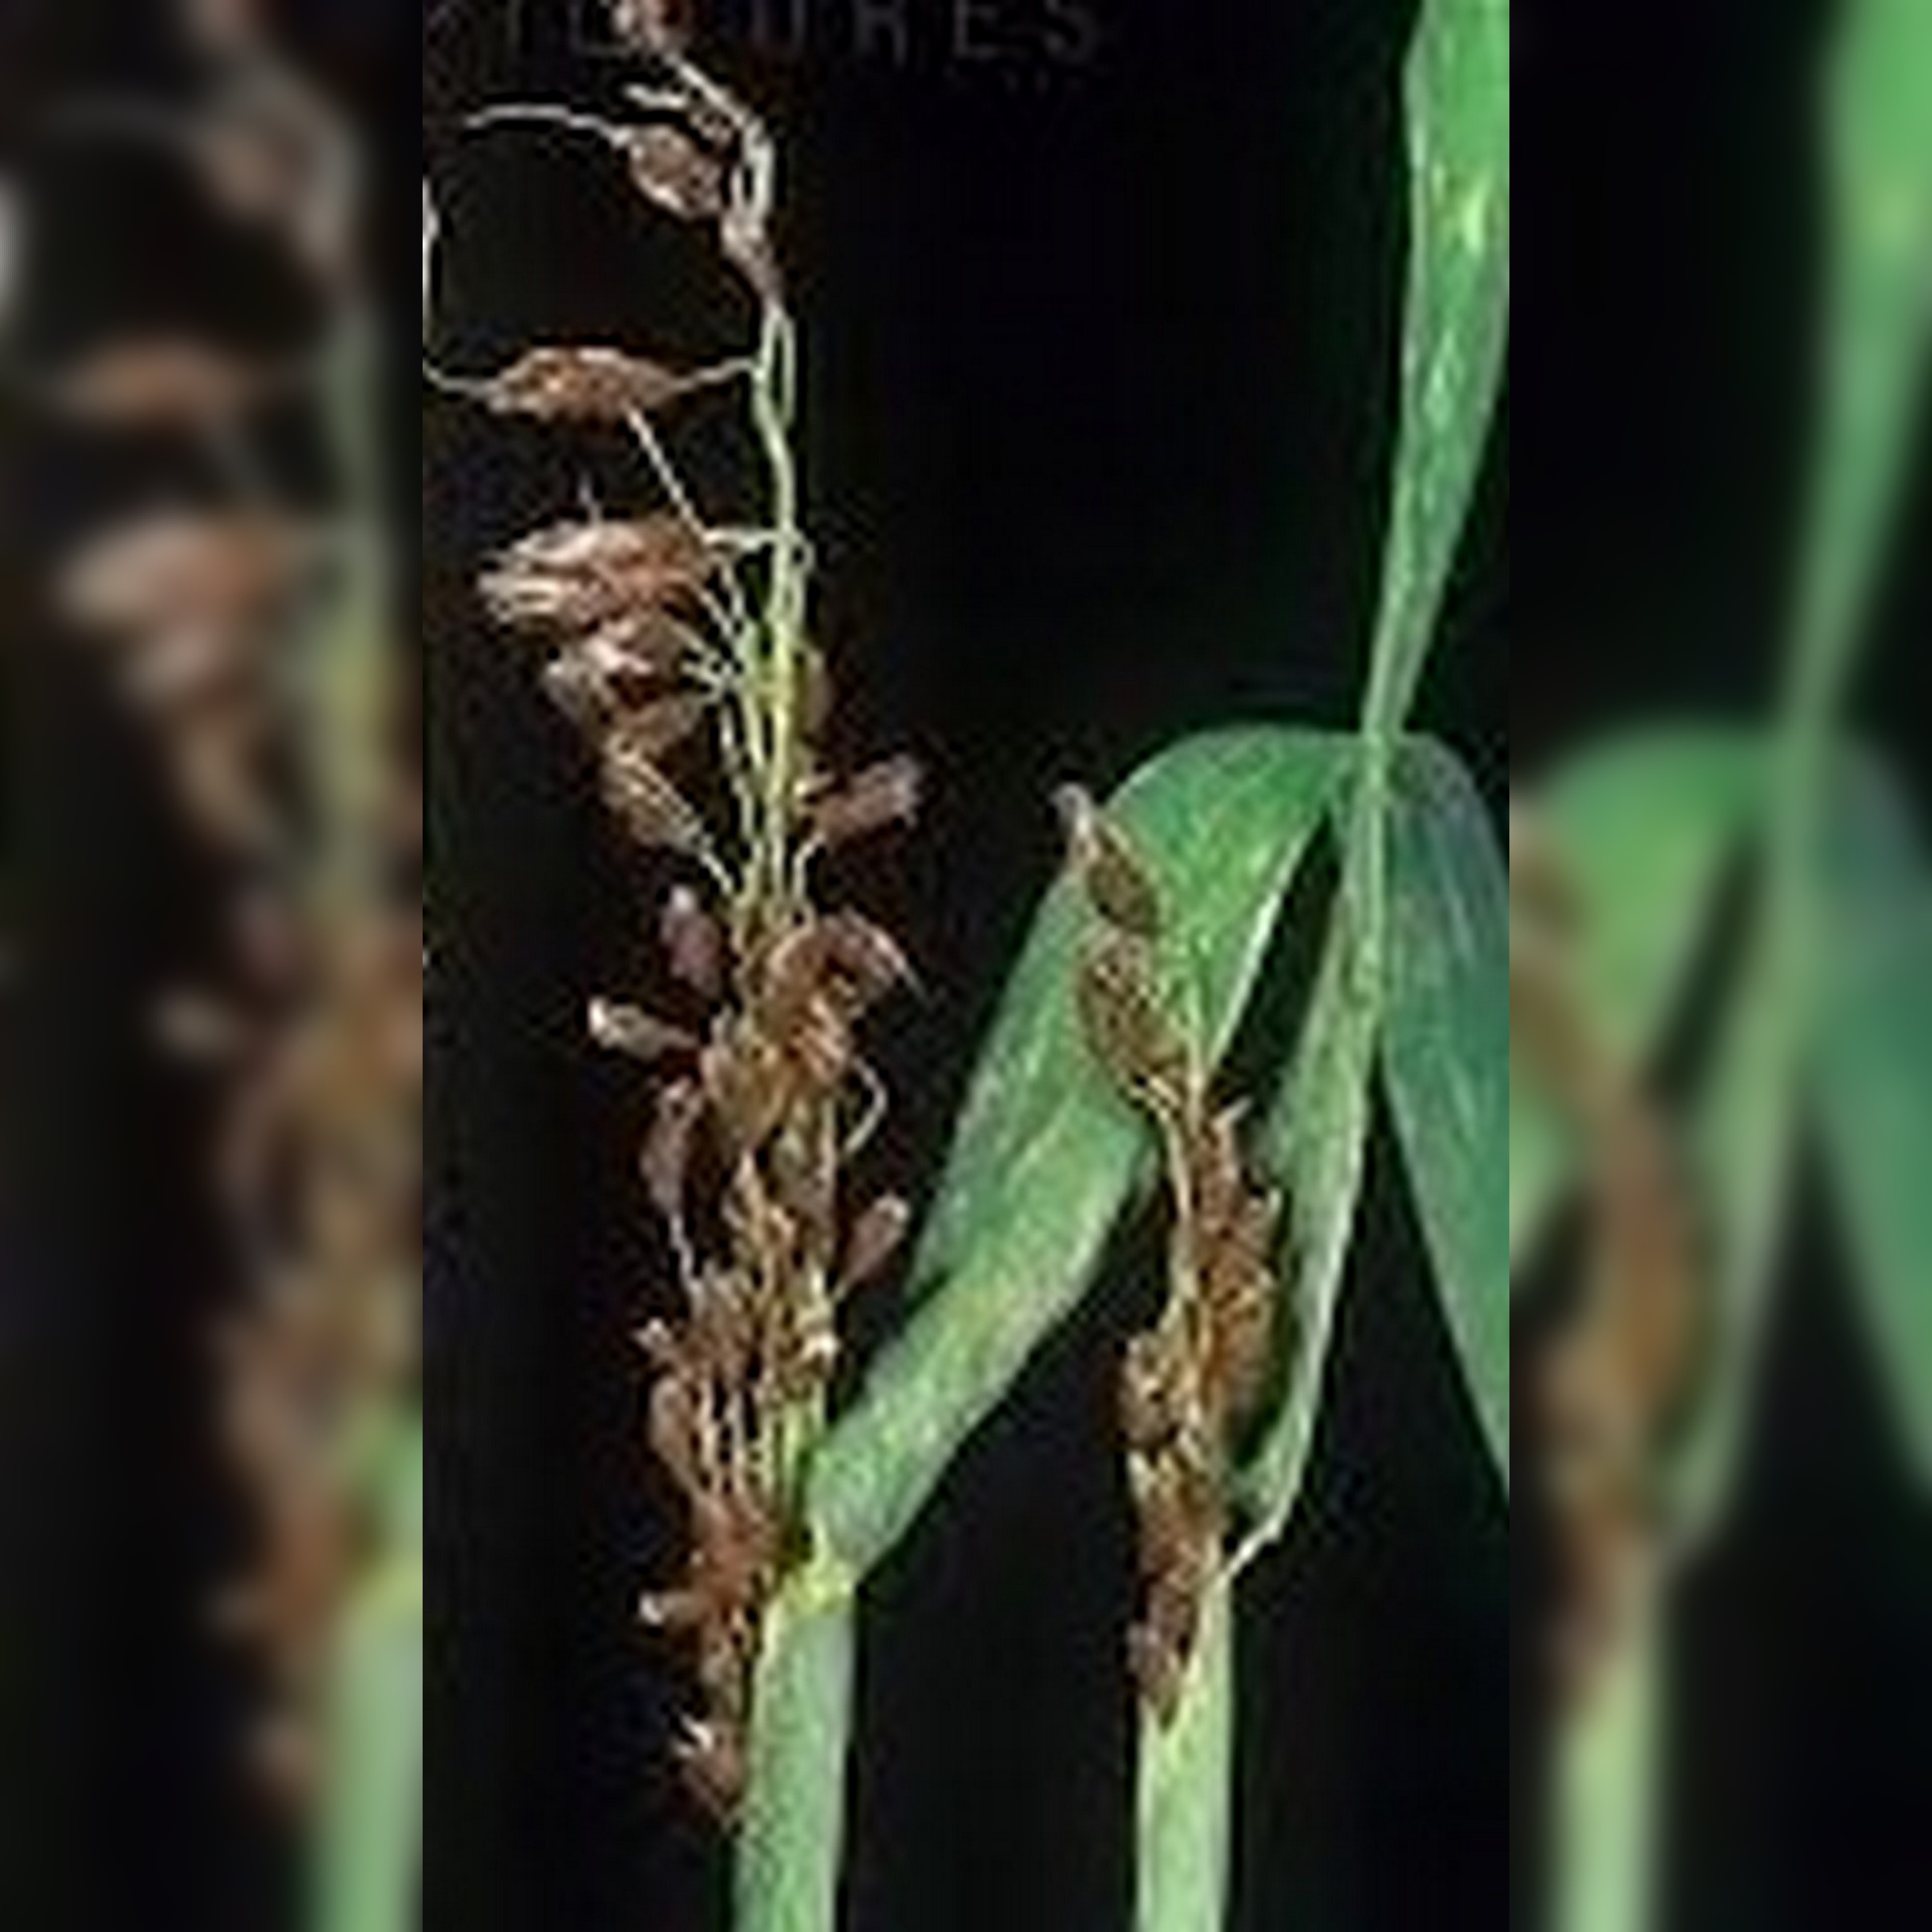Wheat Loose Smut: (460, 42, 925, 1536)
